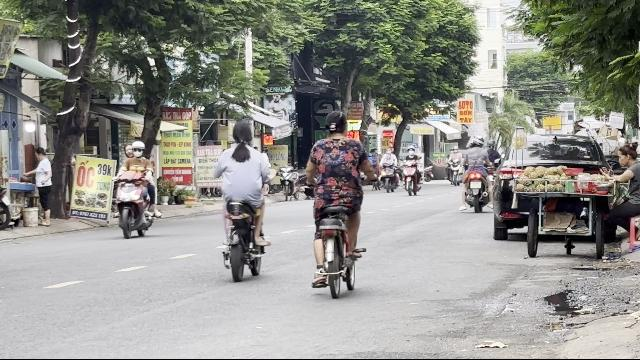helmet: (130, 140, 146, 158)
motorcyclist: (212, 119, 272, 281), (110, 140, 160, 239)
nohelmet: (232, 121, 254, 146)
